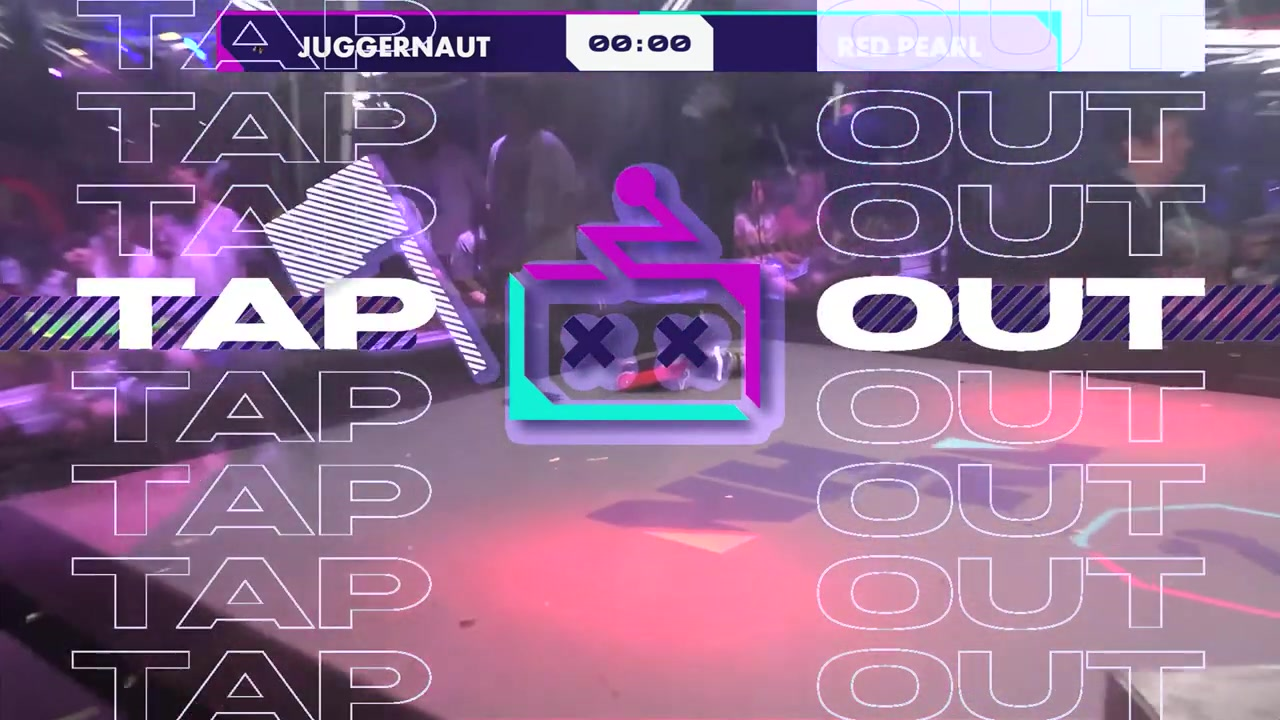combatbot: (615, 356, 694, 394), (692, 347, 744, 379)
housebot: (1105, 663, 1280, 720)
